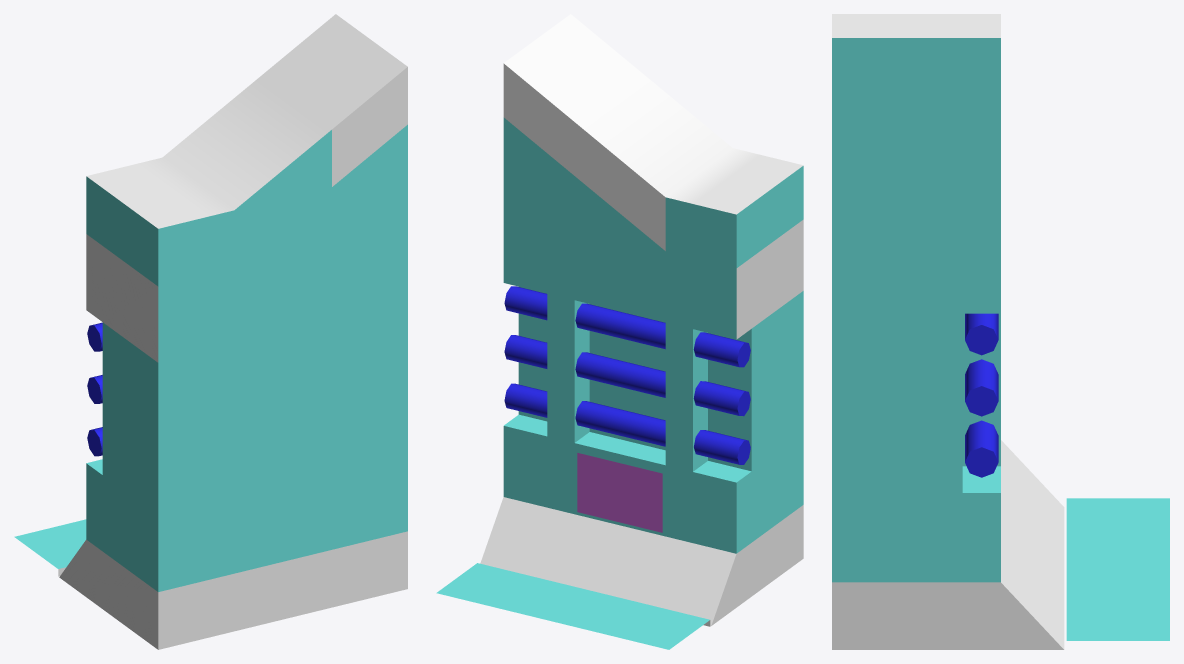
Rendered from Wall-BaseToLow.fbx.
3 renders of one model, left to right at view 1: azimuth 30°, elevation 25°; view 2: azimuth 150°, elevation 25°; view 3: azimuth 270°, elevation 25°, orthographic. The views are drawn at different scales.
Visible parts, largest first — view 1: BaseToLow; view 2: BaseToLow; view 3: BaseToLow.
Boxes of the visible parts, box(x1,y1,x2,y2) form: BaseToLow: box(14, 14, 407, 649); BaseToLow: box(436, 14, 803, 649); BaseToLow: box(832, 14, 1169, 649).
Bounding box in the file's own units: 78.74 × 157 × 78.79.
